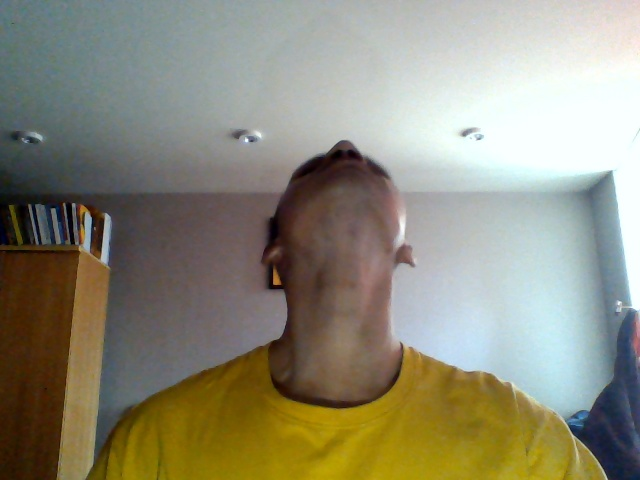no_mask: (264, 141, 409, 233)
